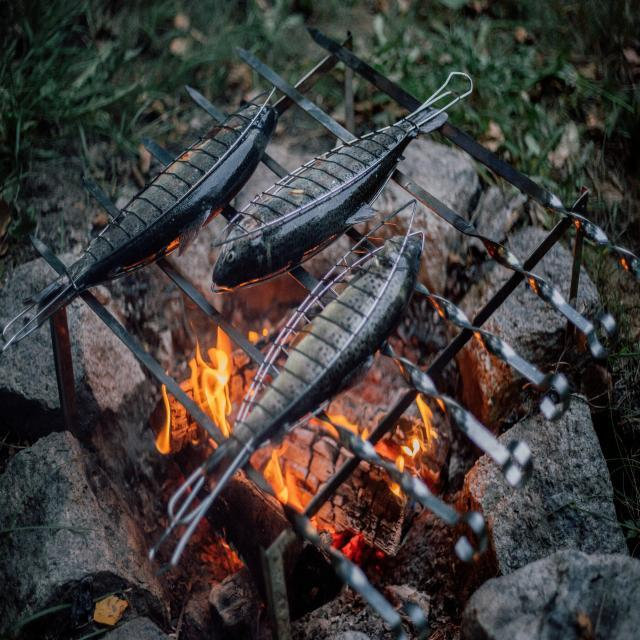Fire: (159, 322, 231, 455), (374, 394, 446, 504), (262, 441, 306, 513), (312, 408, 361, 444)
